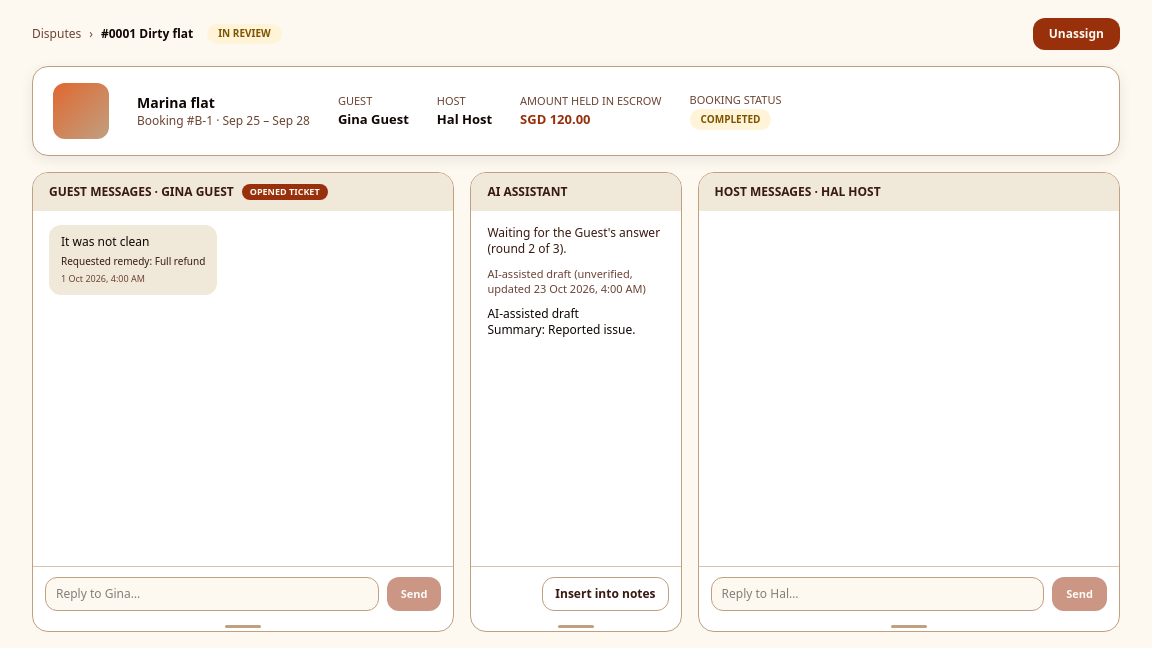
Test case: DisputeDetail (F4, F14) › E68 disables insertion while an action is busy
The width and height of the screenshot is (1152, 648).
Click the button "Insert into notes" at (605,594), box [542,577,669,611]
(page scrolled)
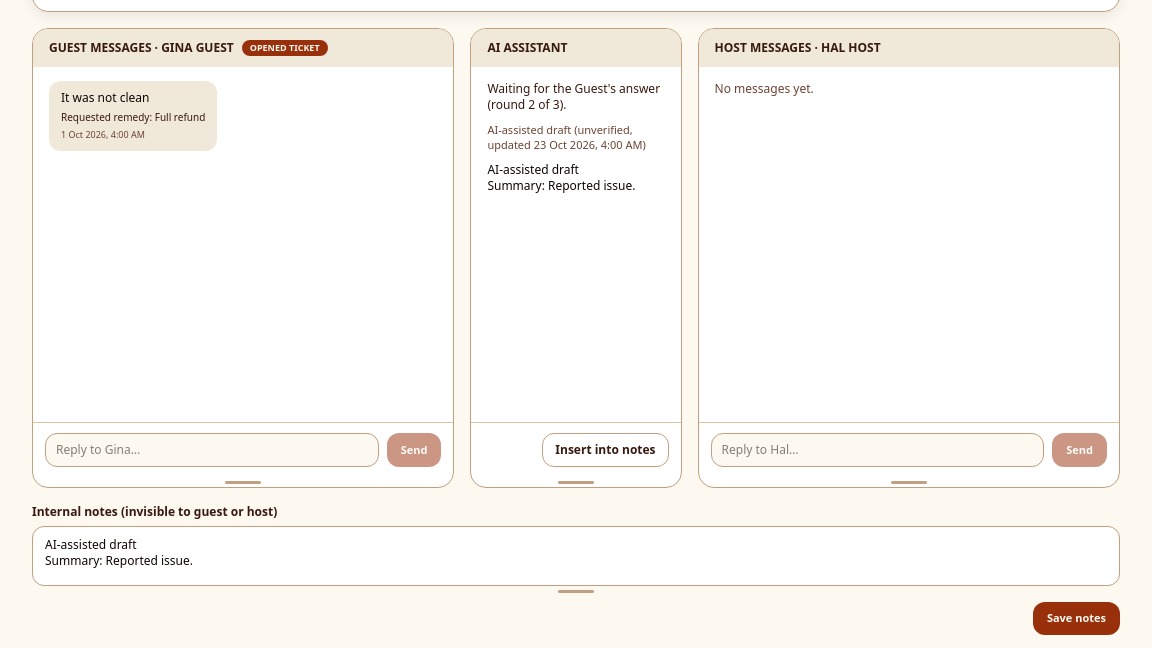
Click the button "Save notes" at (1076,618), box [1033,602,1120,634]
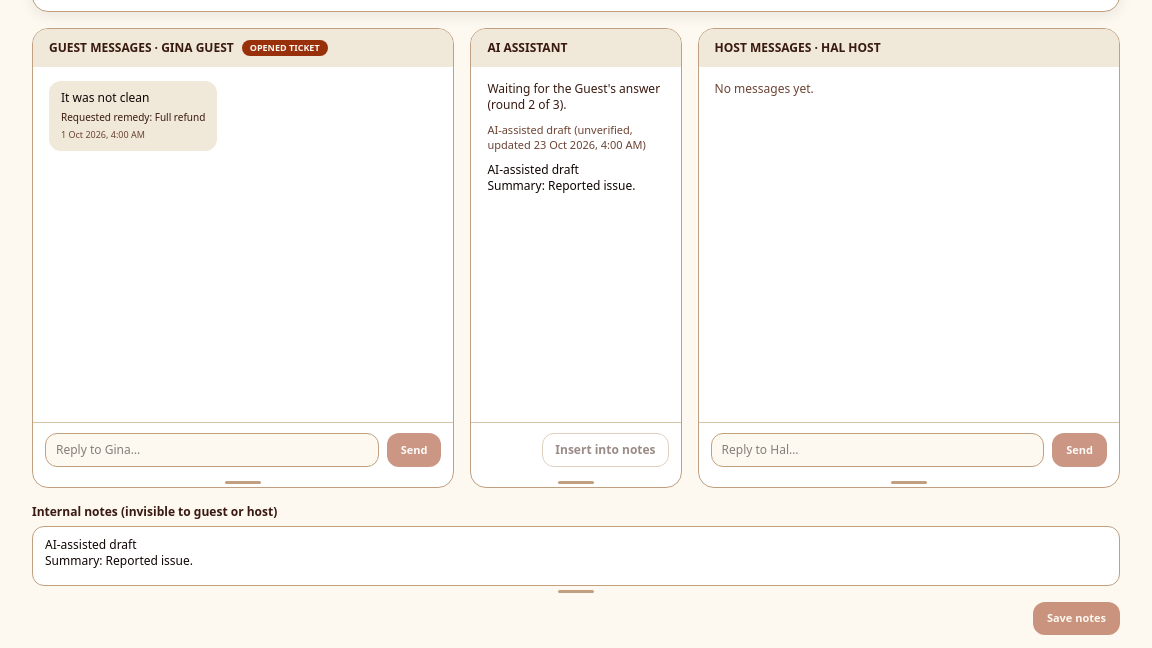
Expected: the button "Insert into notes" is disabled, [542,433,669,467]
